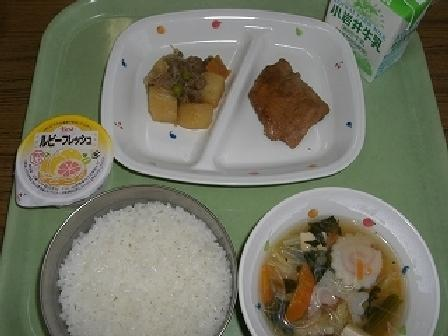Cup desserts: (14, 110, 110, 208)
Milk: (320, 0, 426, 66)
Rice: (49, 192, 235, 335)
Soups: (240, 185, 428, 334)
cooked food meat with vegetables: (147, 40, 230, 129)
fried fish: (251, 57, 332, 150)
